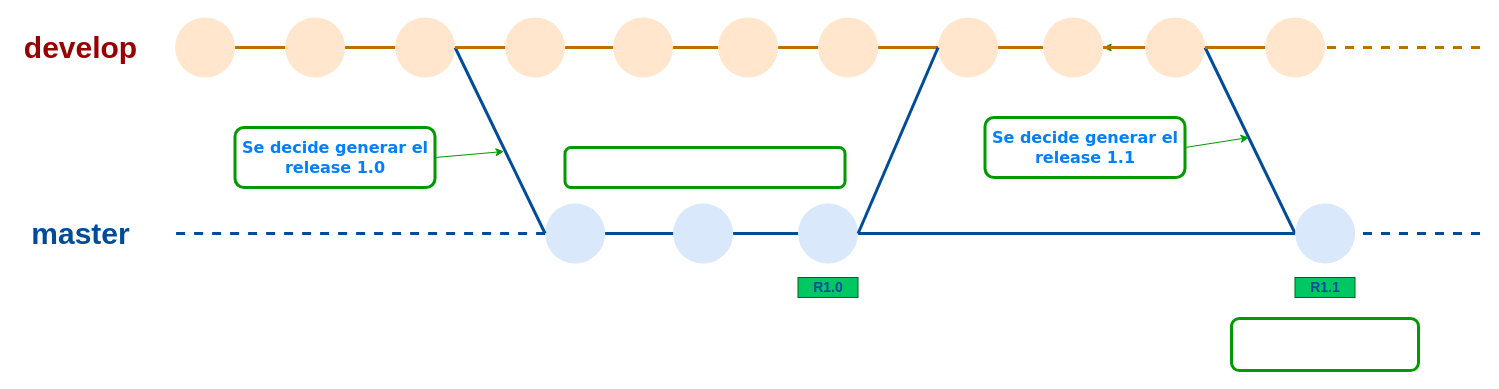
This 1499x389 diagram has some shape labels left out. The centre of each missing label's shape, as x and y in pixels:
"Ajustes para el release 1.0" goes at (704,167).
"El release 1.1 no requiere ajustes" goes at (1325,344).
